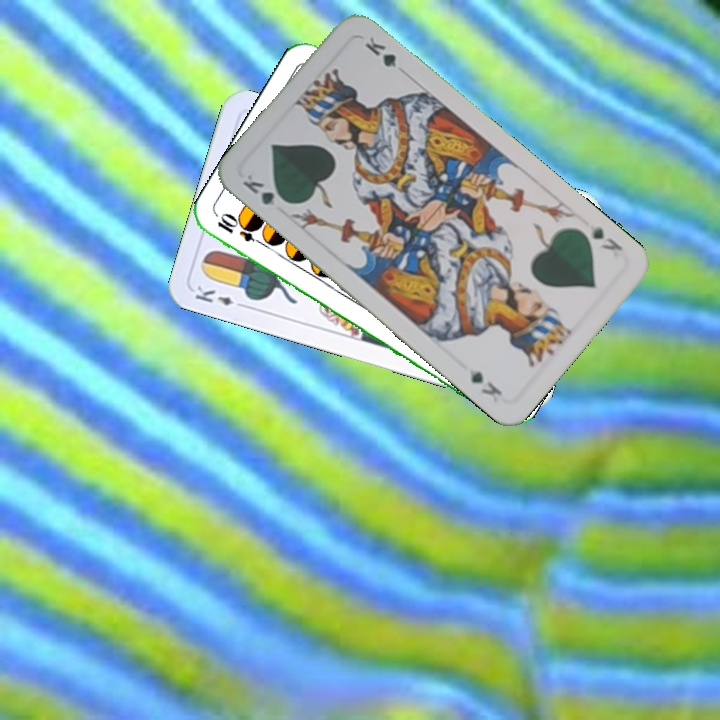E10: (213, 211, 269, 249)
EK: (191, 281, 249, 311)
GK: (238, 170, 292, 208), (584, 220, 625, 254)
